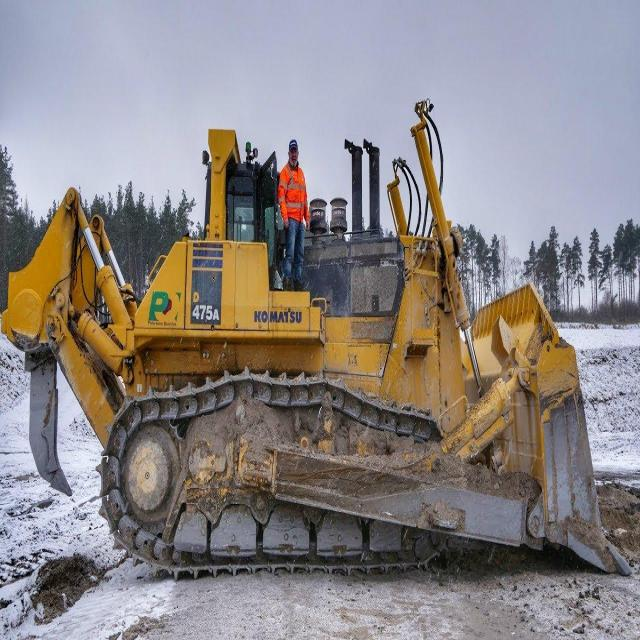Bulldozer: (8, 91, 640, 590)
